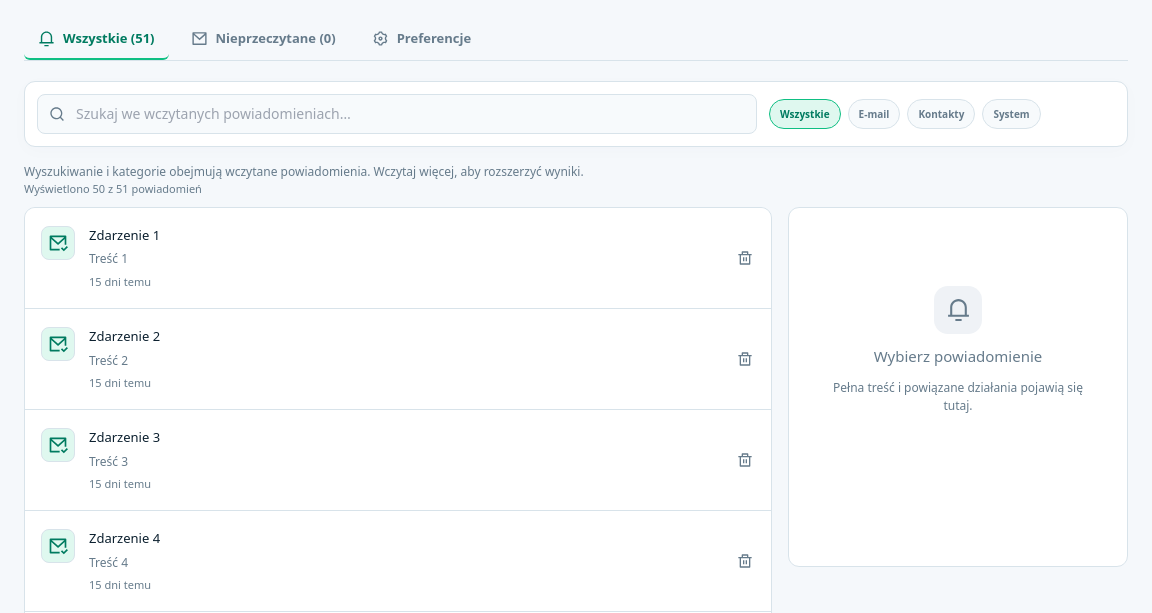
Test: notification workspace › restarts pagination after a deletion instead of skipping the shifted row
Click the 1st button named "Usuń powiadomienie" at coordinates (745, 258), box [727,240,763,276]
(page scrolled)
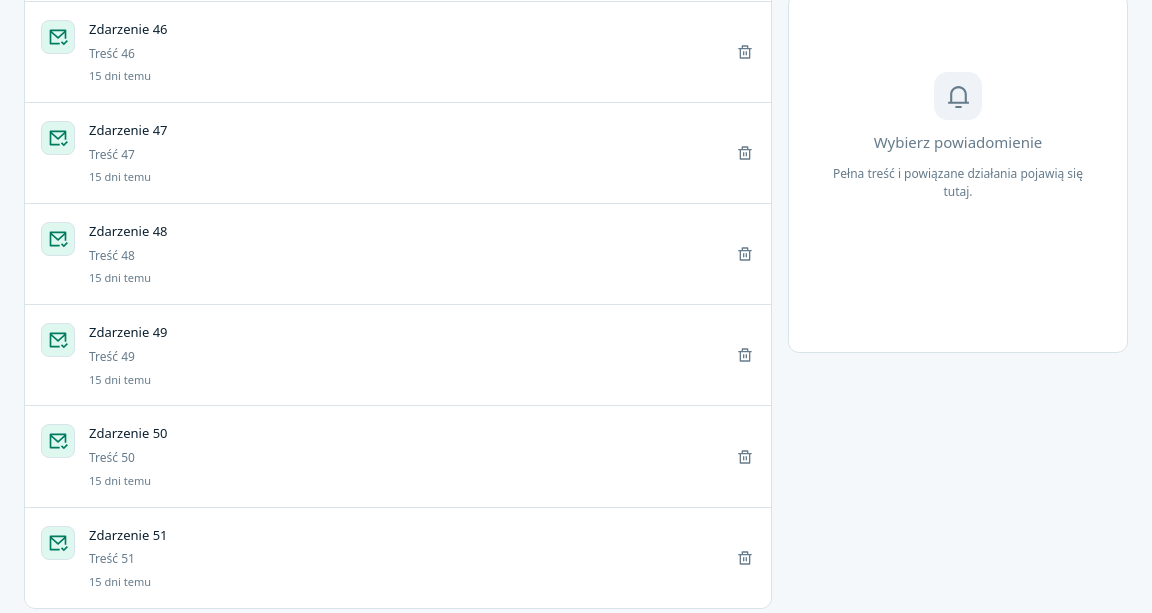
Expected: the button "Zdarzenie 1 " is not shown
Now the button "Zdarzenie 51 Treść 51 15 dni temu" is shown, box [25,508,727,608]
Now the text "Wczytaj więcej" is gone
